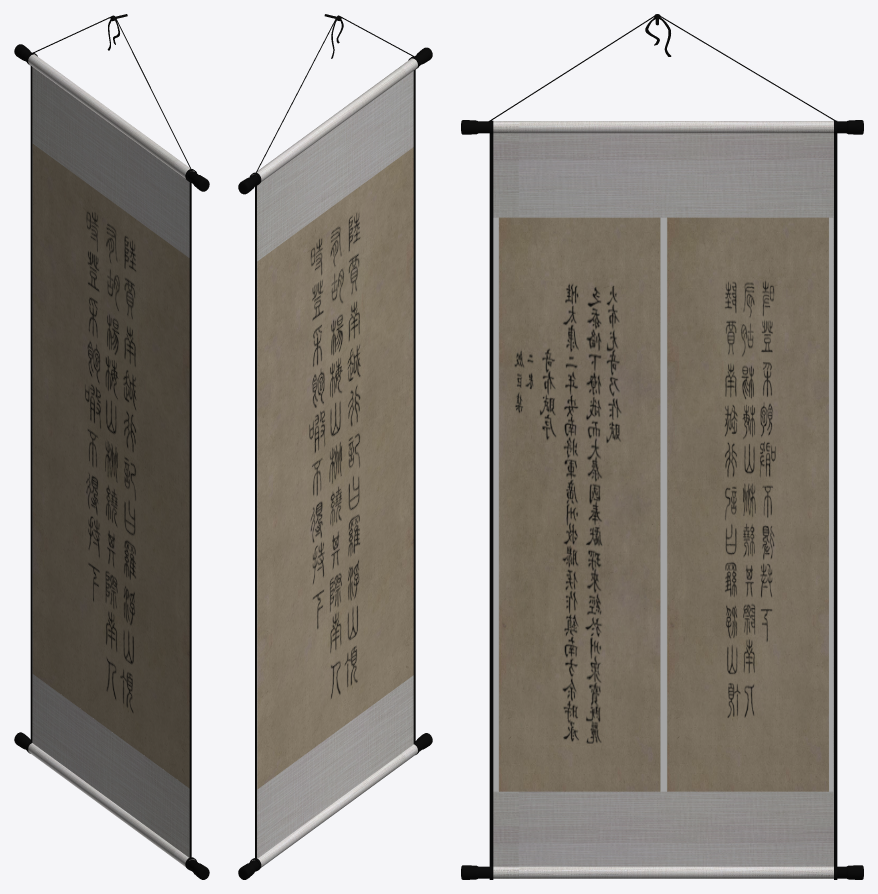
3 views of the same model, side by side, from view 1: azimuth 30°, elevation 25°; view 2: azimuth 150°, elevation 25°; view 3: azimuth 270°, elevation 25° (orthographic). The views are drawn at different scales.
Parts seen in each view (by area): view 1: QH-诗词; view 2: QH-诗词; view 3: QH-诗词.
Boxes of the visible parts, x1,y1,x2,y2 form: QH-诗词: (14, 14, 209, 879); QH-诗词: (238, 14, 432, 879); QH-诗词: (461, 14, 863, 879).
Size of the model in its own units: 0.0374 by 0.6675 by 1.58.
